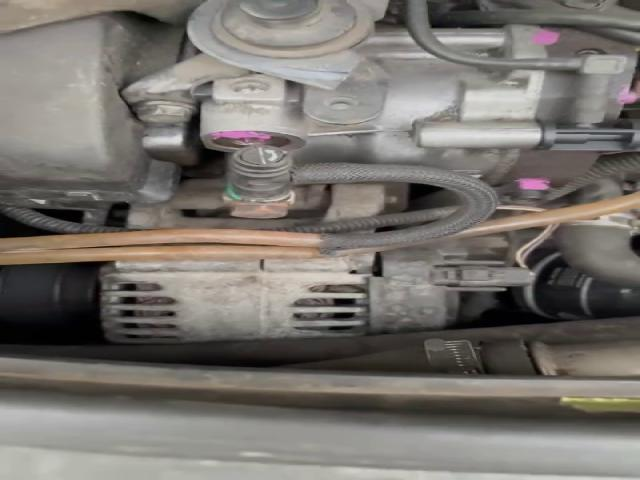alternator: (94, 225, 539, 345)
high_pressure_pump: (198, 20, 640, 207)
